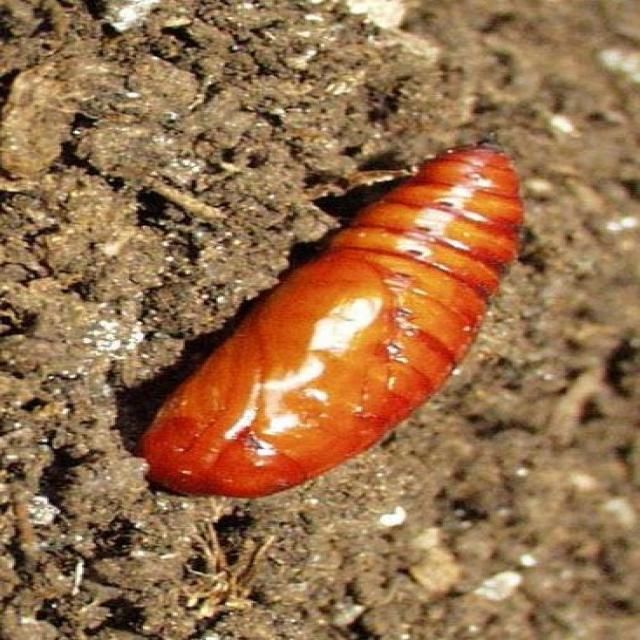black cutworm: (140, 140, 532, 510)
